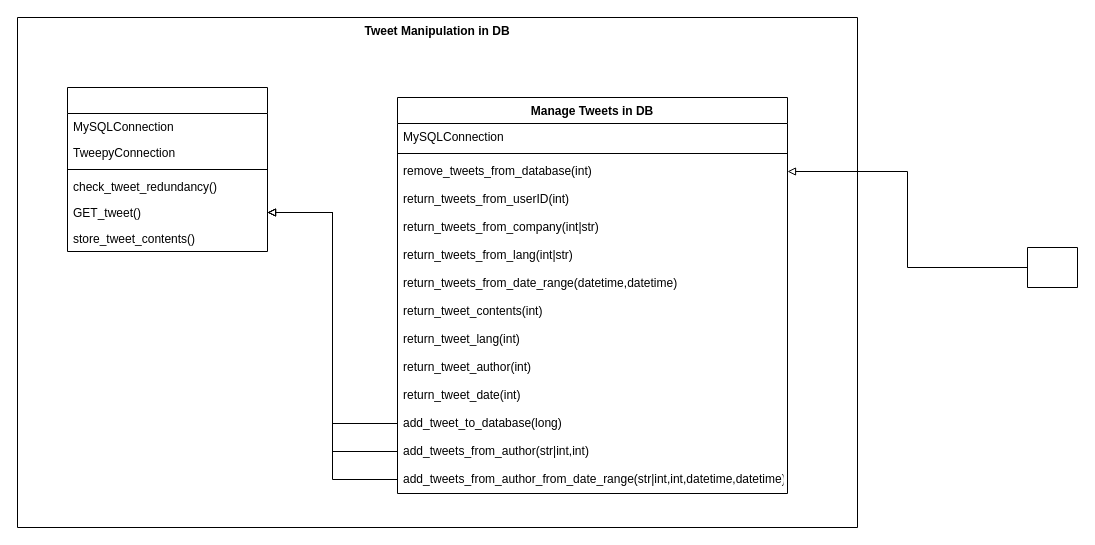
Image size: 1095x545. Some labels were removed from this diagram. The shapes that lost their labels are listed below. From the top down, each one's box as (x1, y1, x2, y2) in pixels, then its label:
(66, 86, 268, 252): Add Tweets in DB
(1026, 246, 1078, 288): Interface
